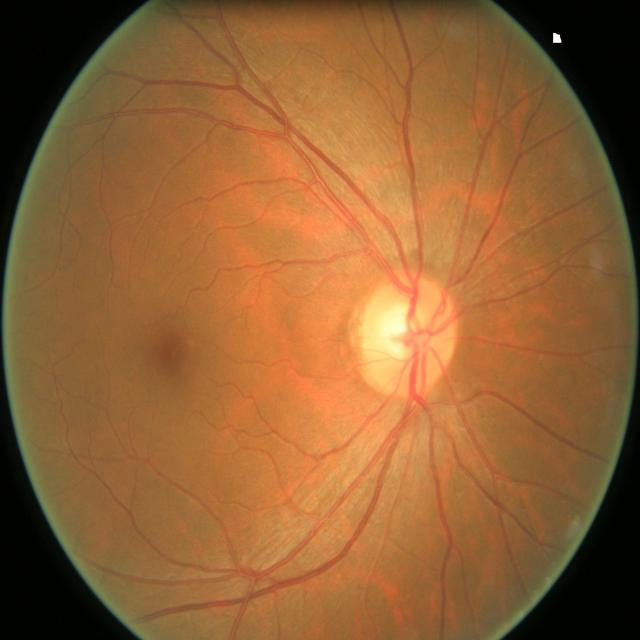OC: (378, 301, 428, 359)
OD: (360, 274, 460, 398)
